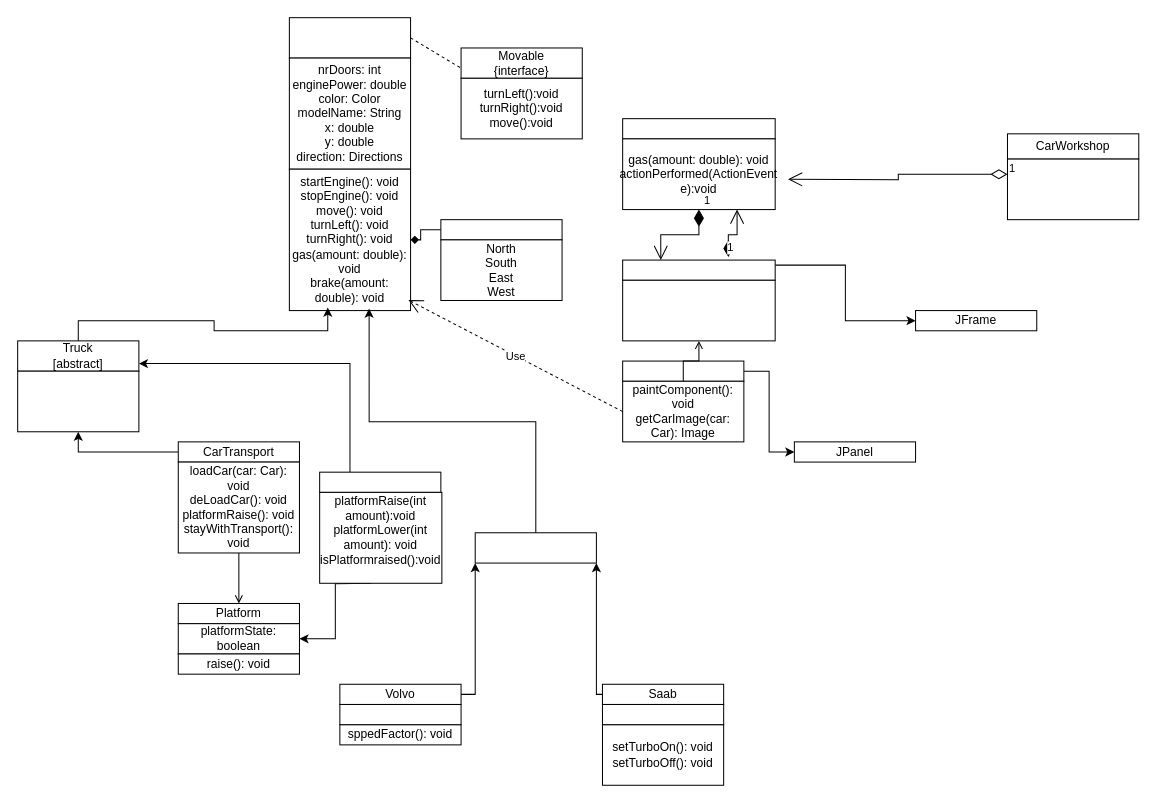
This 1156x803 diagram has some shape labels left out. Here are the shapes that lost their labels. From the top down, the centre of each, then its label:
At (x=349, y=37): "Vehicle [abstract]".
At (x=698, y=128): "CarController".
At (x=1072, y=189): "addCar(T car):void removeCar(T car):void".
At (x=501, y=229): "Directions".
At (x=698, y=269): "CarView".
At (x=698, y=310): "initCompoments(String title): void stateChanged(ChangeEvent e): void".
At (x=683, y=370): "DrawPanel".
At (x=78, y=401): "isMoving(): boolean withinRadius(): boolean".
At (x=380, y=481): "Scania".
At (x=535, y=547): "Car [abstract]".
